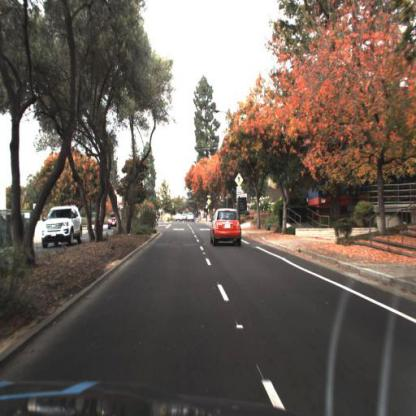car: (39, 205, 88, 247), (209, 209, 243, 249), (106, 207, 120, 232)
